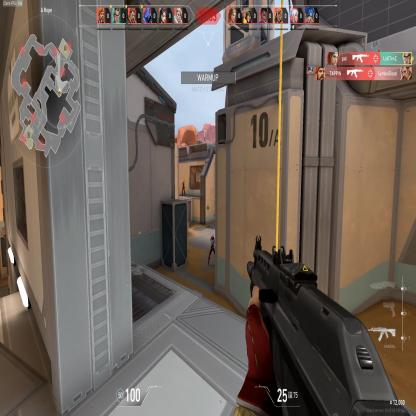enemy: (207, 231, 215, 266), (181, 179, 186, 197)
